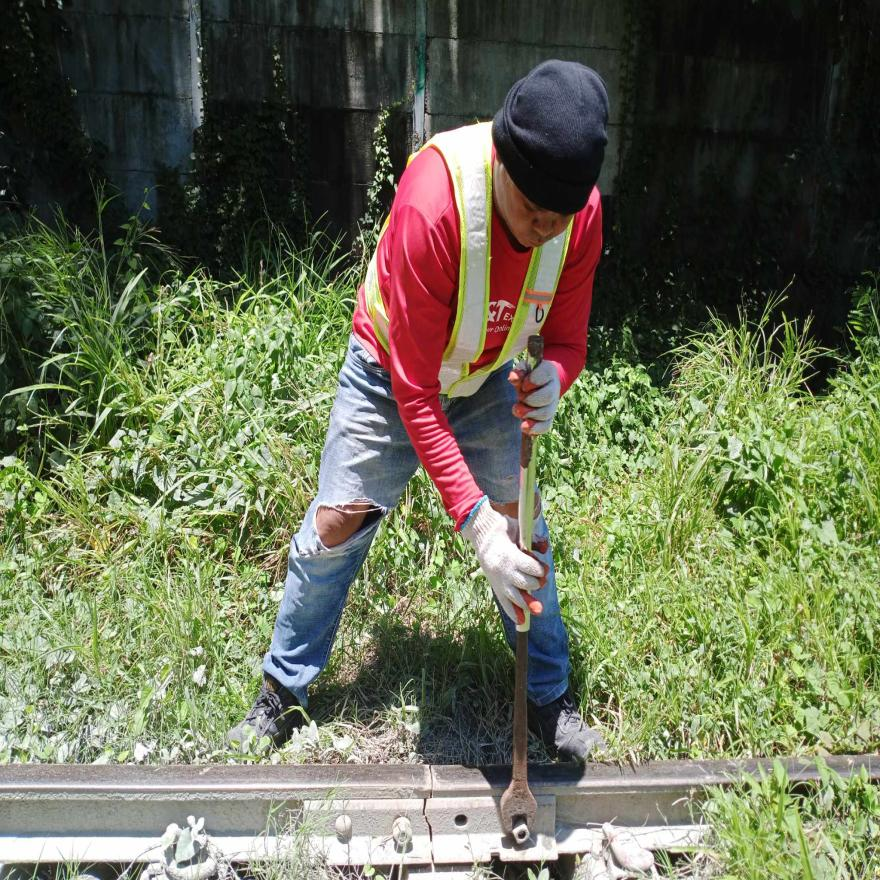railway-gap: (400, 741, 461, 876)
